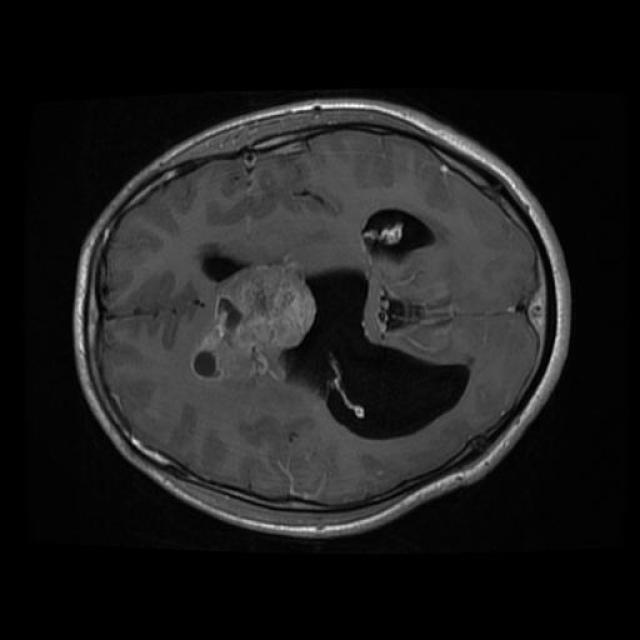Glioma: (192, 256, 468, 438)
